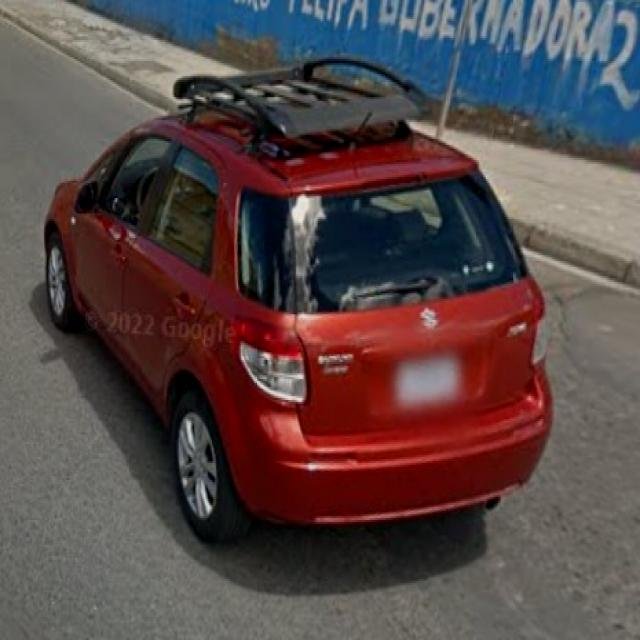car: (44, 76, 561, 540)
